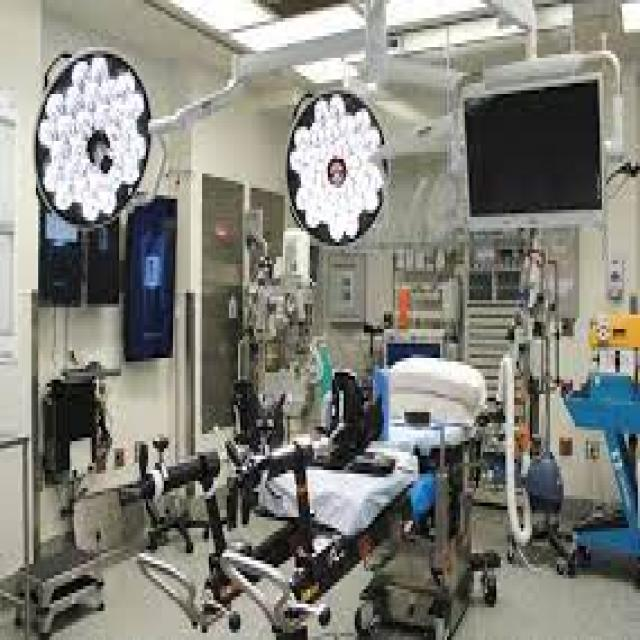cardiac_monitor: (464, 75, 611, 231)
lightings: (42, 49, 158, 240), (287, 82, 393, 254)
patient_bed: (276, 341, 489, 612)
